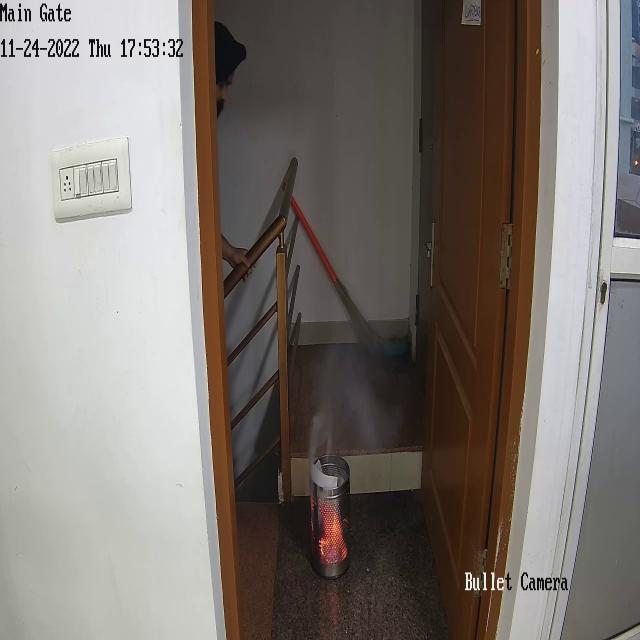fire: (320, 504, 346, 562)
smoke: (358, 397, 396, 442), (316, 144, 340, 214), (344, 351, 372, 408), (314, 356, 338, 402), (308, 408, 327, 456), (312, 275, 329, 312)
